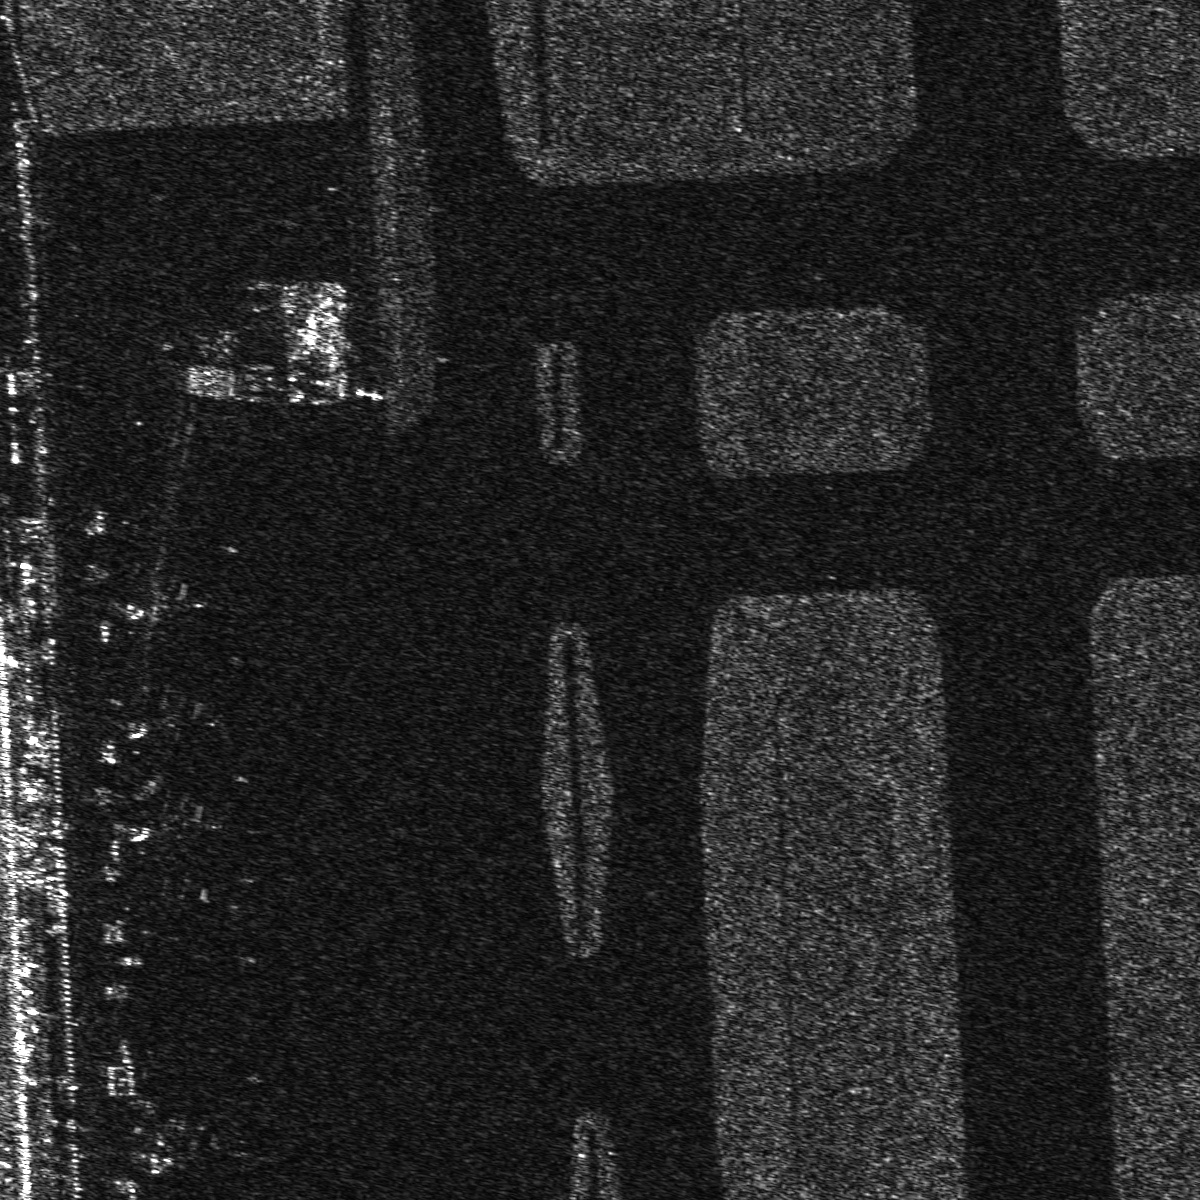A320/321: (107, 793, 229, 865), (122, 686, 223, 749)
Boeing737: (114, 576, 210, 649)
